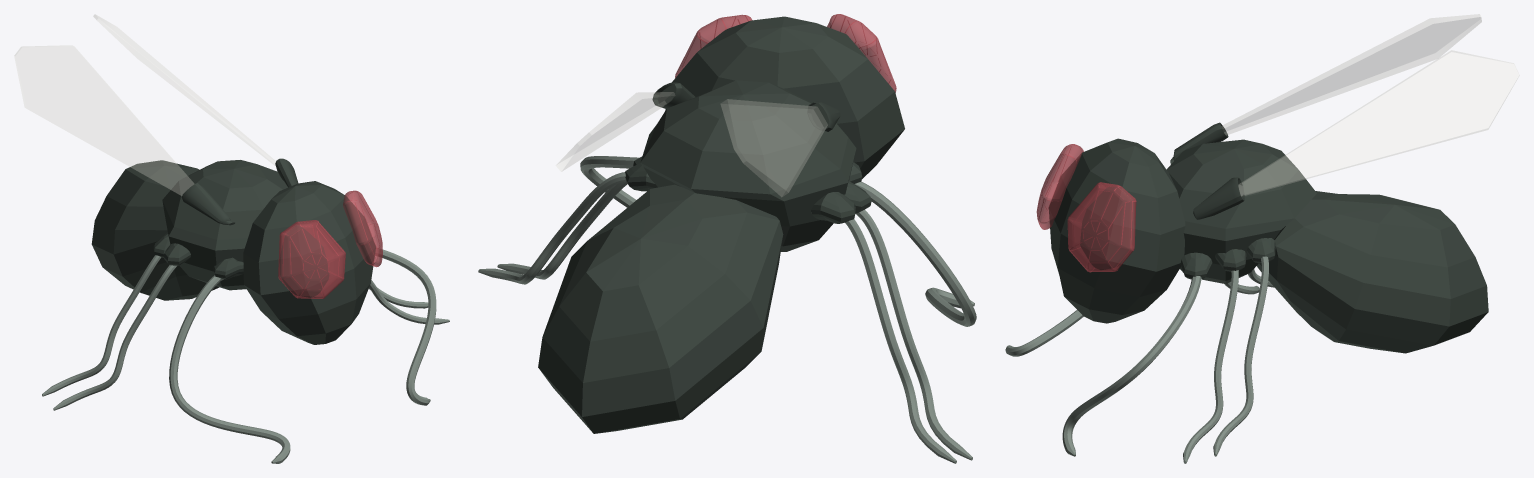
File: Model_Fly.fbx
3 renders of one model, left to right at view 1: azimuth 30°, elevation 25°; view 2: azimuth 150°, elevation 25°; view 3: azimuth 270°, elevation 25°, orthographic. The views are drawn at different scales.
Parts seen in each view (by area): view 1: Fly; view 2: Fly; view 3: Fly.
Boxes of the visible parts, box(x1,y1,x2,y2) form: Fly: box(14, 14, 449, 463); Fly: box(478, 14, 976, 463); Fly: box(1005, 14, 1519, 463).
Bounding box in the file's own units: 0.9309 × 0.7111 × 1.01.
